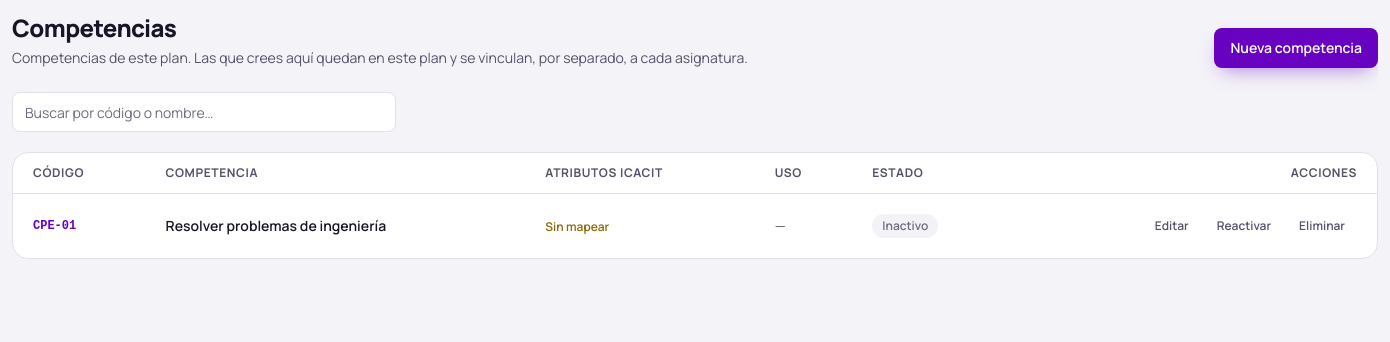
CompetenciasPage — Inactivar y Reactivar (RF-CH-023) › si el servidor rechaza la reactivación, muestra su motivo
What coordinates should you click on to do the following:
click the button "Reactivar"
I would click on:
 (1244, 226)
Its box is [1205,210,1283,242].
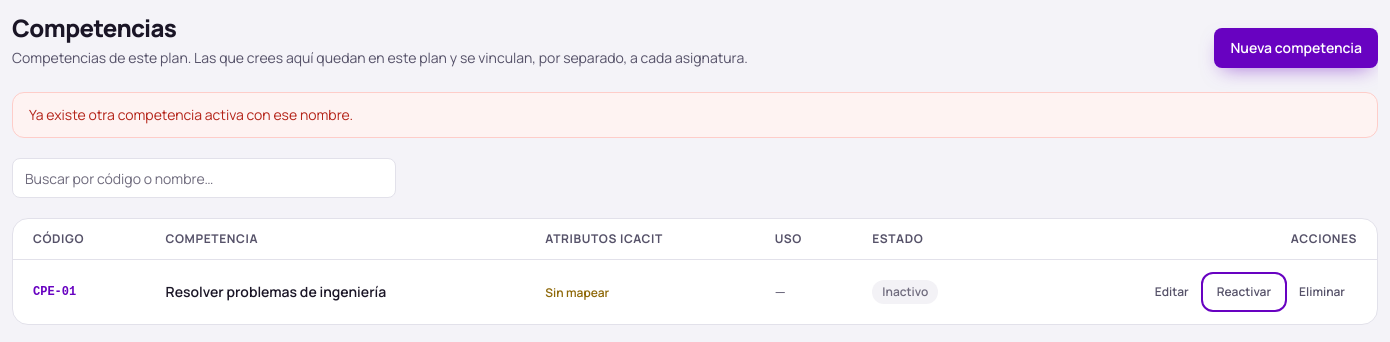
Expected: the text "Ya existe otra competencia activa con ese nombre." is shown, [12,92,1378,138]
